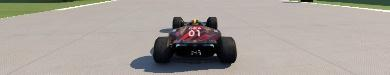Car: (152, 16, 237, 64)
curve: (0, 0, 389, 74)
